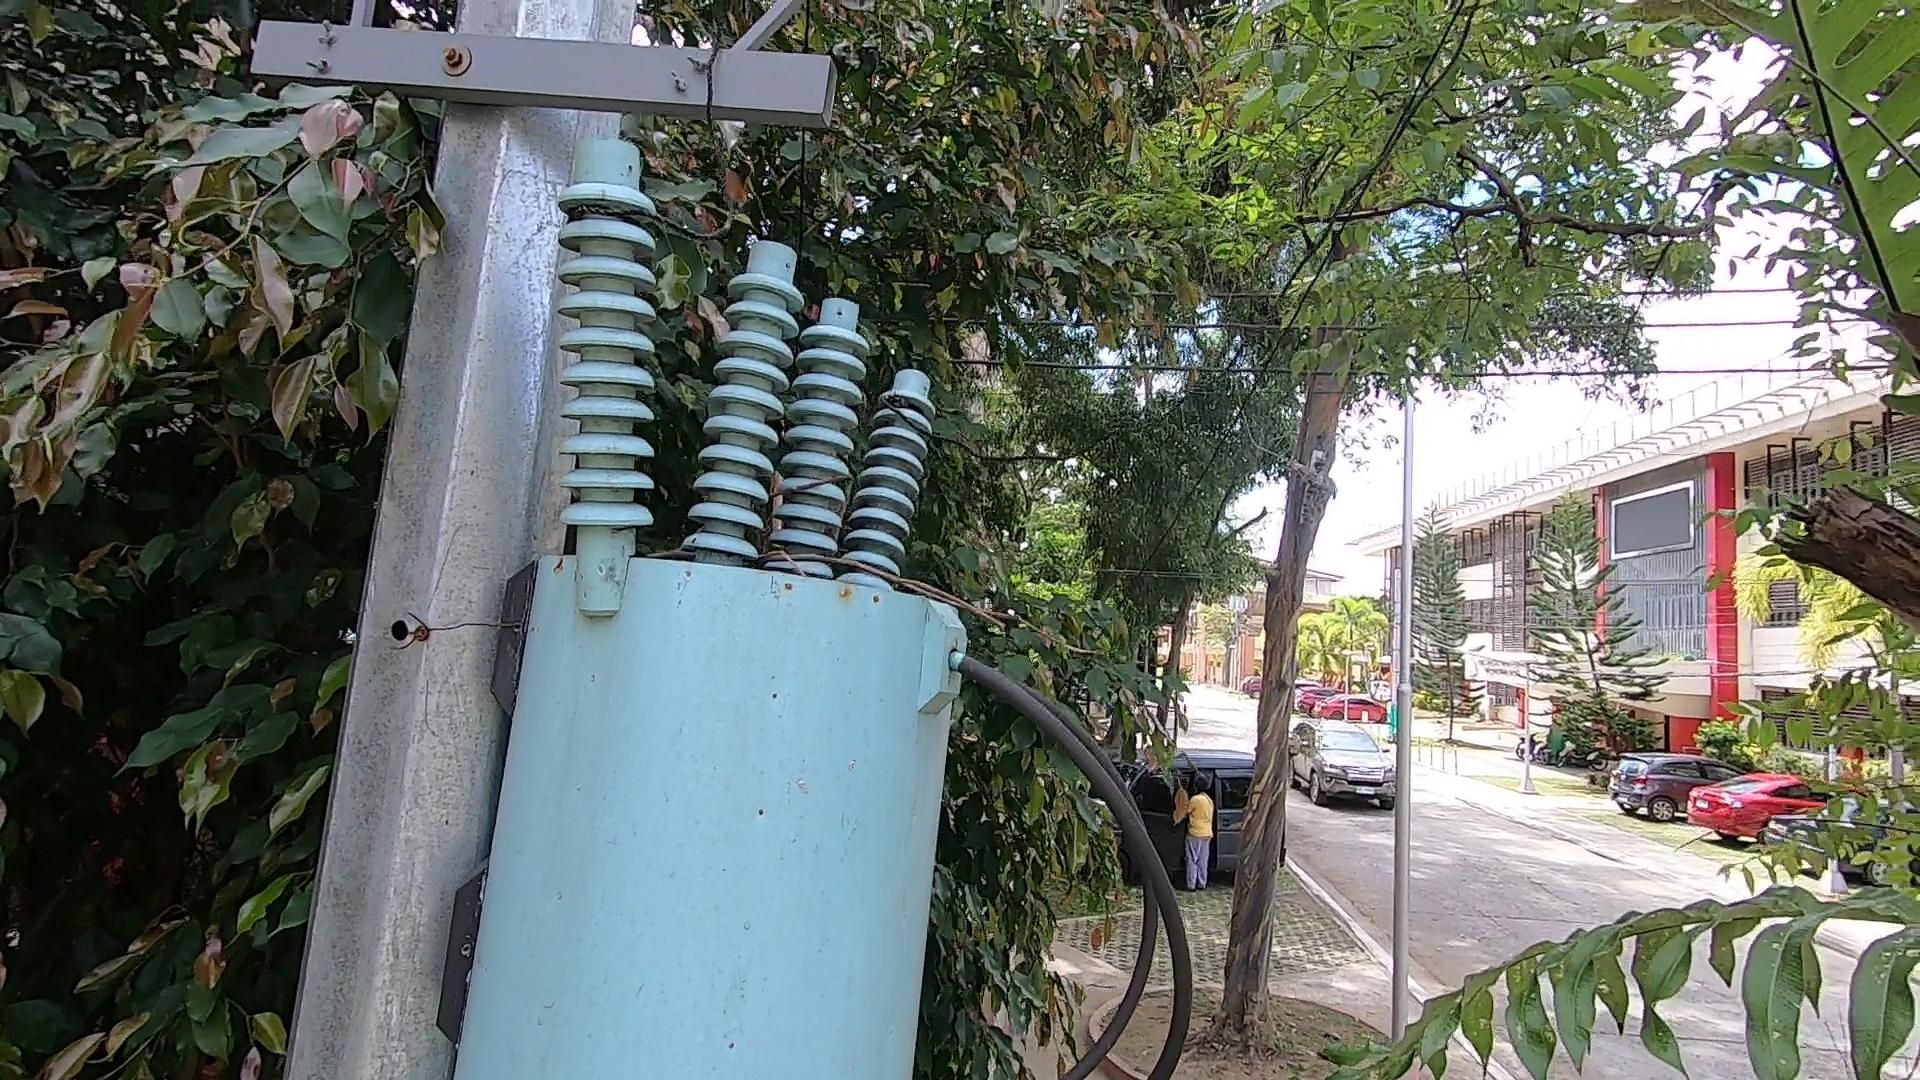tree branch: (729, 530, 1108, 684)
